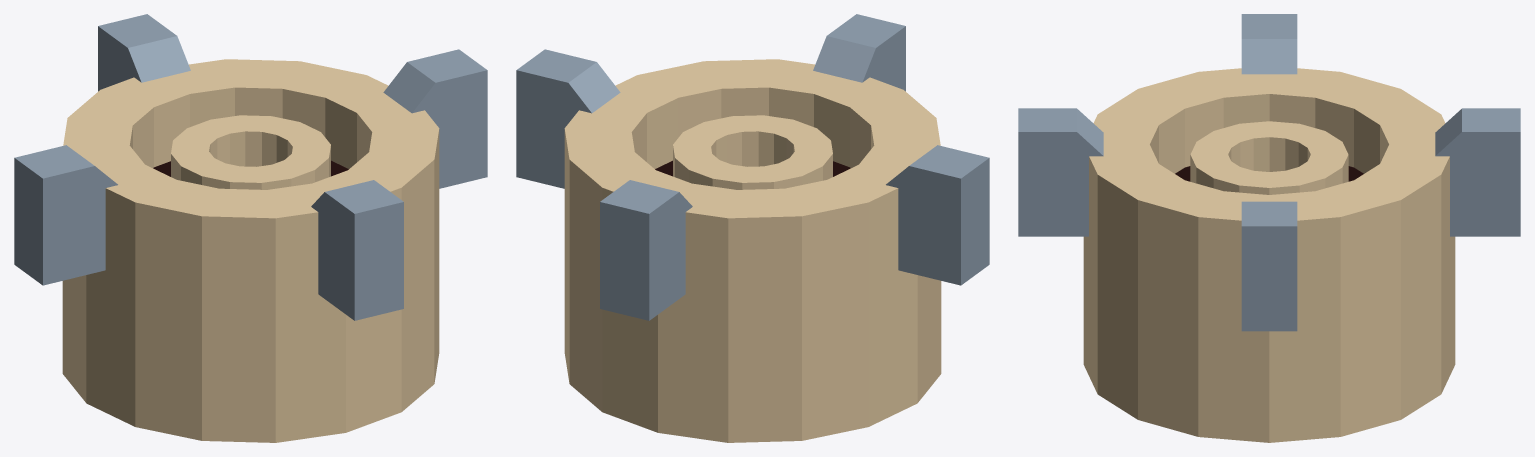
Rendered from mesh_ObjectSlots.fbx.
3 renders of one model, left to right at view 1: azimuth 30°, elevation 25°; view 2: azimuth 150°, elevation 25°; view 3: azimuth 270°, elevation 25°, orthographic. The views are drawn at different scales.
Parts seen in each view (by area): view 1: Cylinder; view 2: Cylinder; view 3: Cylinder.
Boxes of the visible parts, x1=… form: Cylinder: x1=14, y1=14, x2=487, y2=442; Cylinder: x1=516, y1=14, x2=989, y2=442; Cylinder: x1=1018, y1=14, x2=1520, y2=442.
Bounding box in the file's own units: 6.54 × 3.51 × 6.54.
